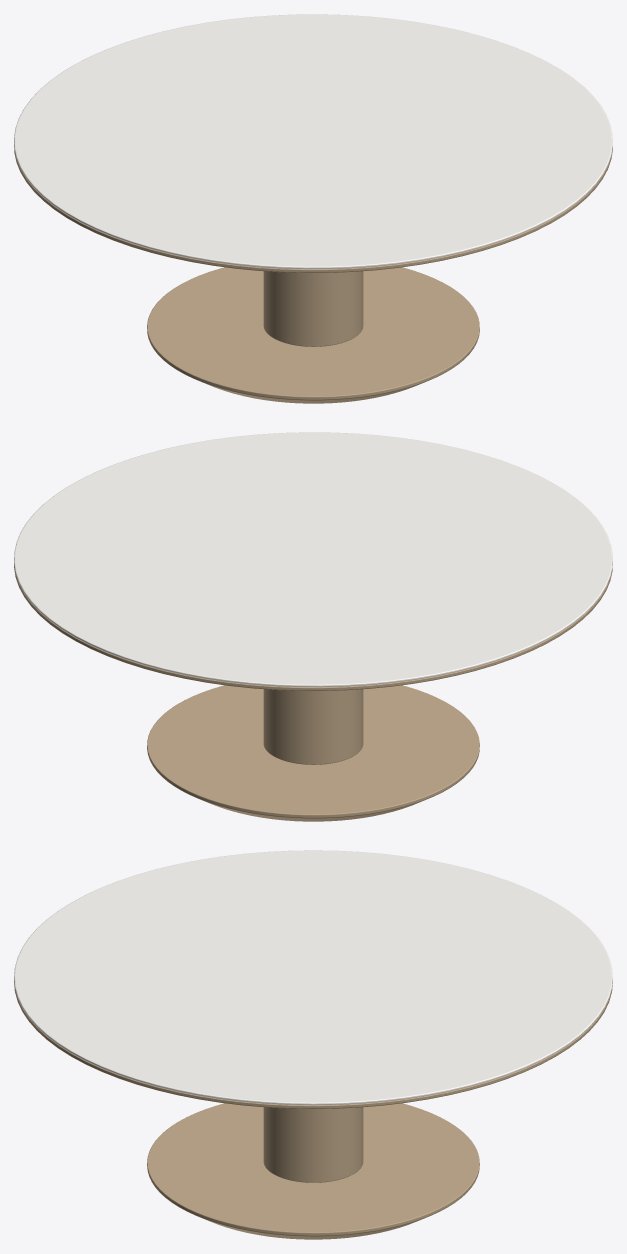
The model's file is orbit_d90h33_proposta.glb.
3 renders of one model, top to bottom at view 1: azimuth 30°, elevation 25°; view 2: azimuth 150°, elevation 25°; view 3: azimuth 270°, elevation 25°, orthographic.
Visible parts, largest first — view 1: Top Orbit Coffee Table 024, Base Orbit Coffee Table 024, Base Element Orbit Coffee Table 027, Undertop Orbit Coffee Table 024; view 2: Top Orbit Coffee Table 024, Base Orbit Coffee Table 024, Base Element Orbit Coffee Table 027, Undertop Orbit Coffee Table 024; view 3: Top Orbit Coffee Table 024, Base Orbit Coffee Table 024, Base Element Orbit Coffee Table 027, Undertop Orbit Coffee Table 024.
Boxes of the visible parts, x1,y1,x2,y2 form: Top Orbit Coffee Table 024: [14, 14, 612, 269]; Base Orbit Coffee Table 024: [147, 267, 479, 403]; Base Element Orbit Coffee Table 027: [263, 271, 363, 346]; Undertop Orbit Coffee Table 024: [14, 144, 612, 272]; Top Orbit Coffee Table 024: [14, 432, 612, 687]; Base Orbit Coffee Table 024: [147, 685, 479, 821]; Base Element Orbit Coffee Table 027: [263, 689, 363, 764]; Undertop Orbit Coffee Table 024: [14, 562, 612, 690]; Top Orbit Coffee Table 024: [14, 850, 612, 1105]; Base Orbit Coffee Table 024: [147, 1103, 479, 1239]; Base Element Orbit Coffee Table 027: [263, 1107, 363, 1182]; Undertop Orbit Coffee Table 024: [14, 980, 612, 1108].
Bounding box in the file's own units: 0.9 × 0.334 × 0.9.
